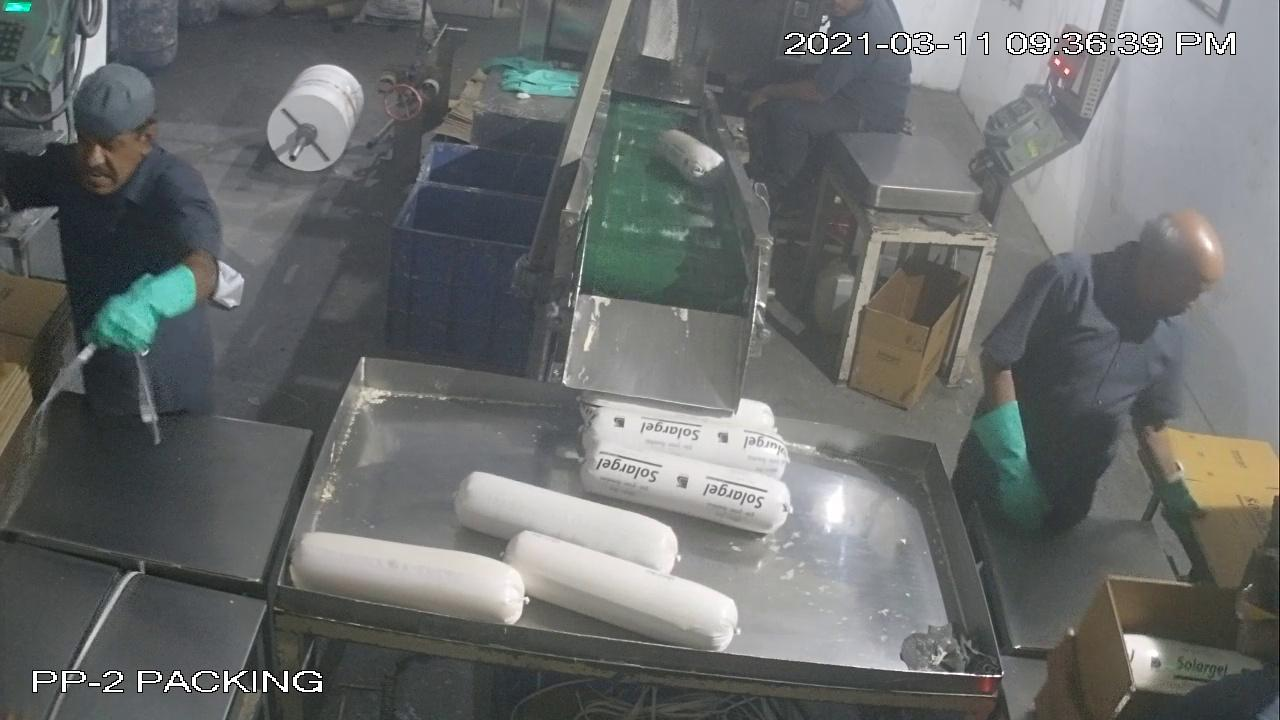Gloves: (935, 382, 1076, 560), (89, 266, 201, 379), (1143, 446, 1201, 550)
No-gloves: (727, 63, 852, 117)
